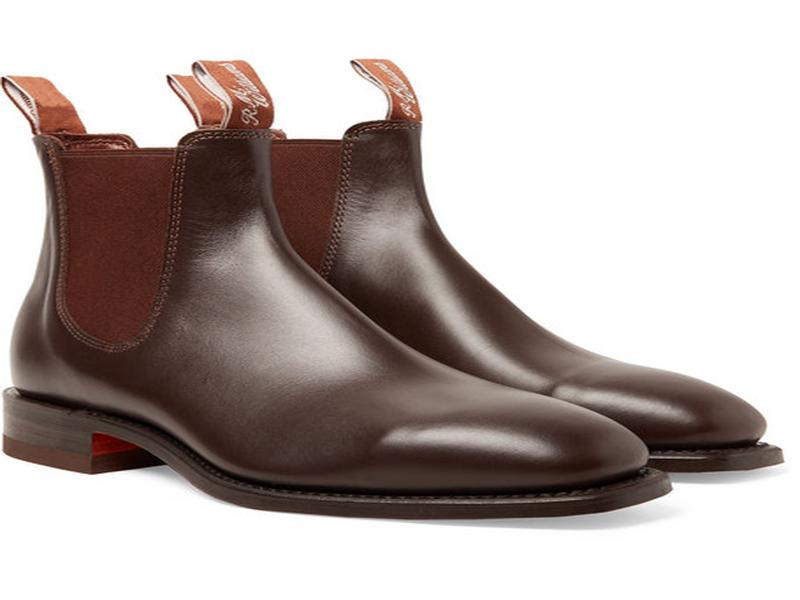shoes_men_chelsea_chelseaboots_leather_none_none_brown_none: (7, 107, 660, 518)
